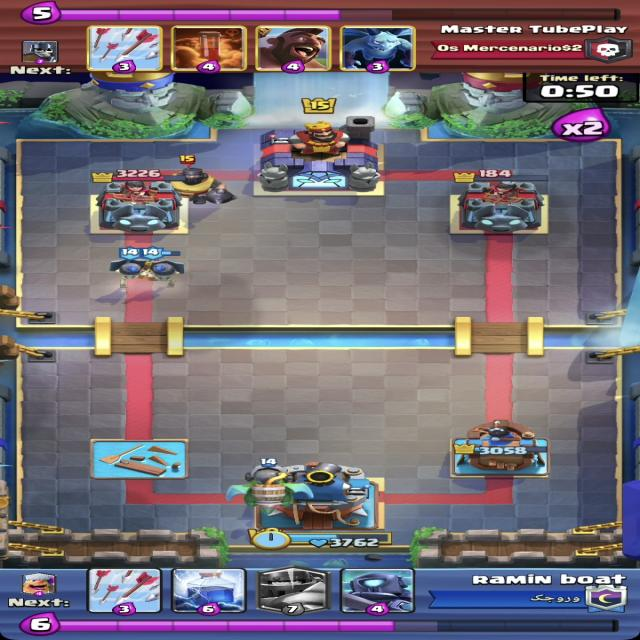Enemy-MegaKnight: (144, 154, 239, 205)
Player-Guard: (138, 246, 185, 288), (108, 246, 153, 289)
Player-InfernoDragon: (225, 458, 314, 515)
